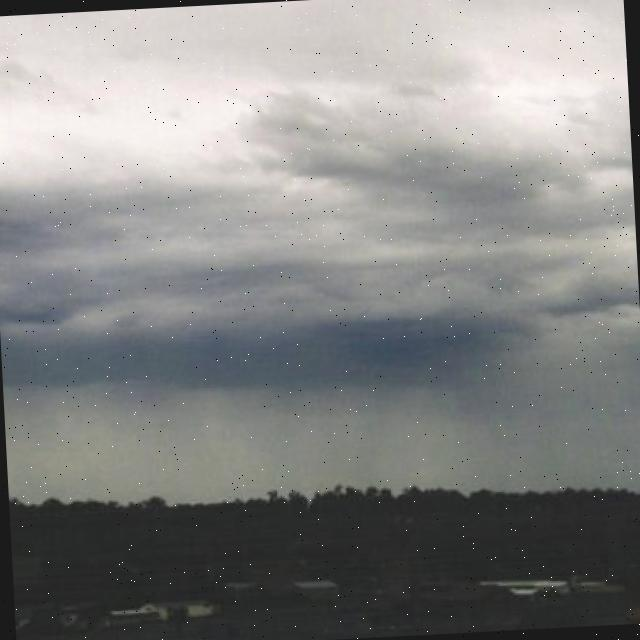Ns: (1, 19, 640, 414)
